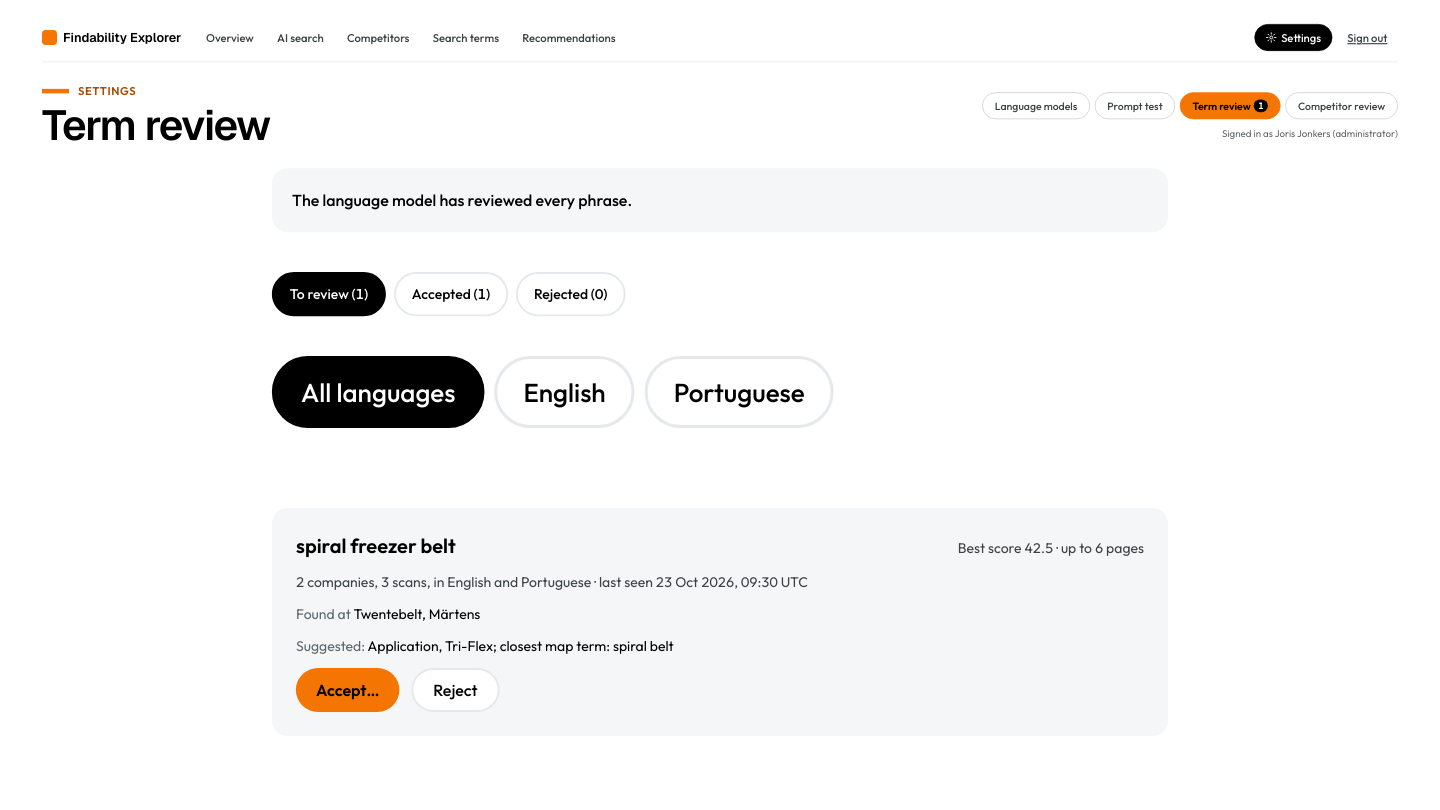
the term review › says why a decision failed
(page scrolled)
Click the button "Reject" at (455, 690), box top-left (411, 668), bottom-right (499, 712)
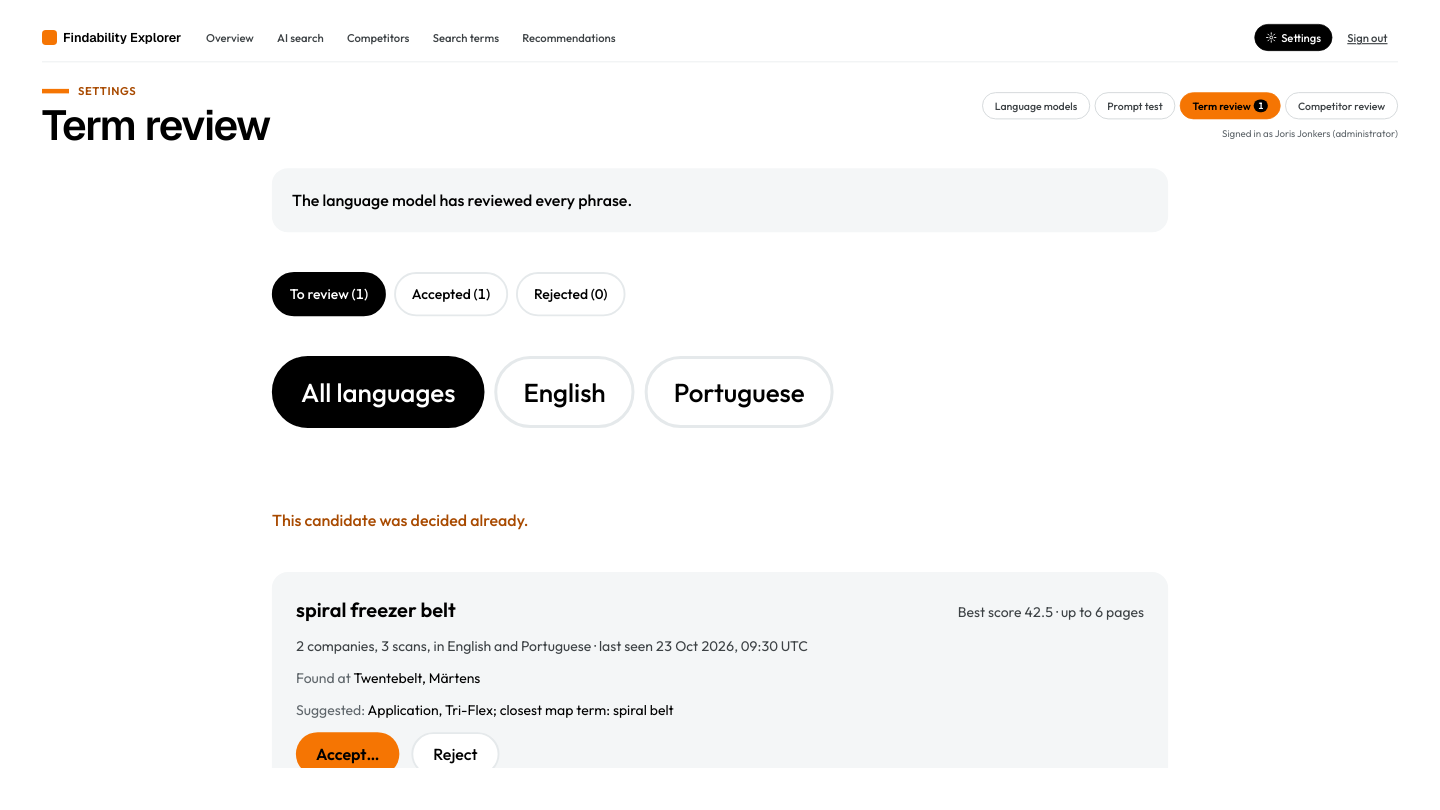
Now the message "This candidate was decided already." is shown, box top-left (272, 510), bottom-right (528, 530)
